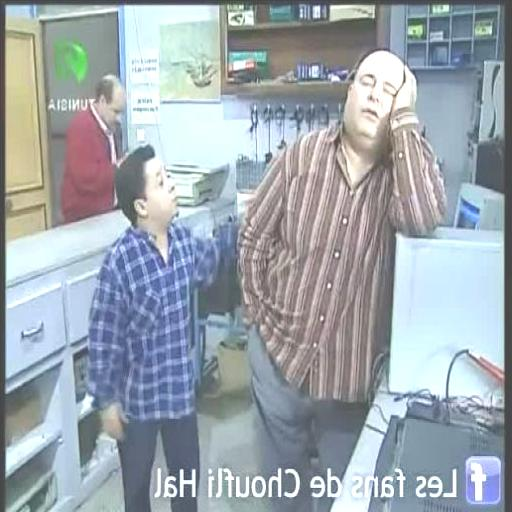beji_matrix: (91, 73, 125, 130)
fouchika: (115, 143, 177, 230)
sboui: (343, 50, 415, 151)
